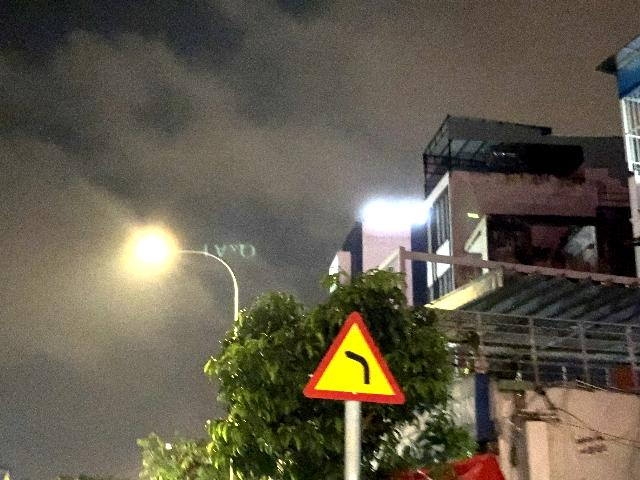cho-ngoat-nguy-hiem-ben-trai: (301, 310, 406, 405)
